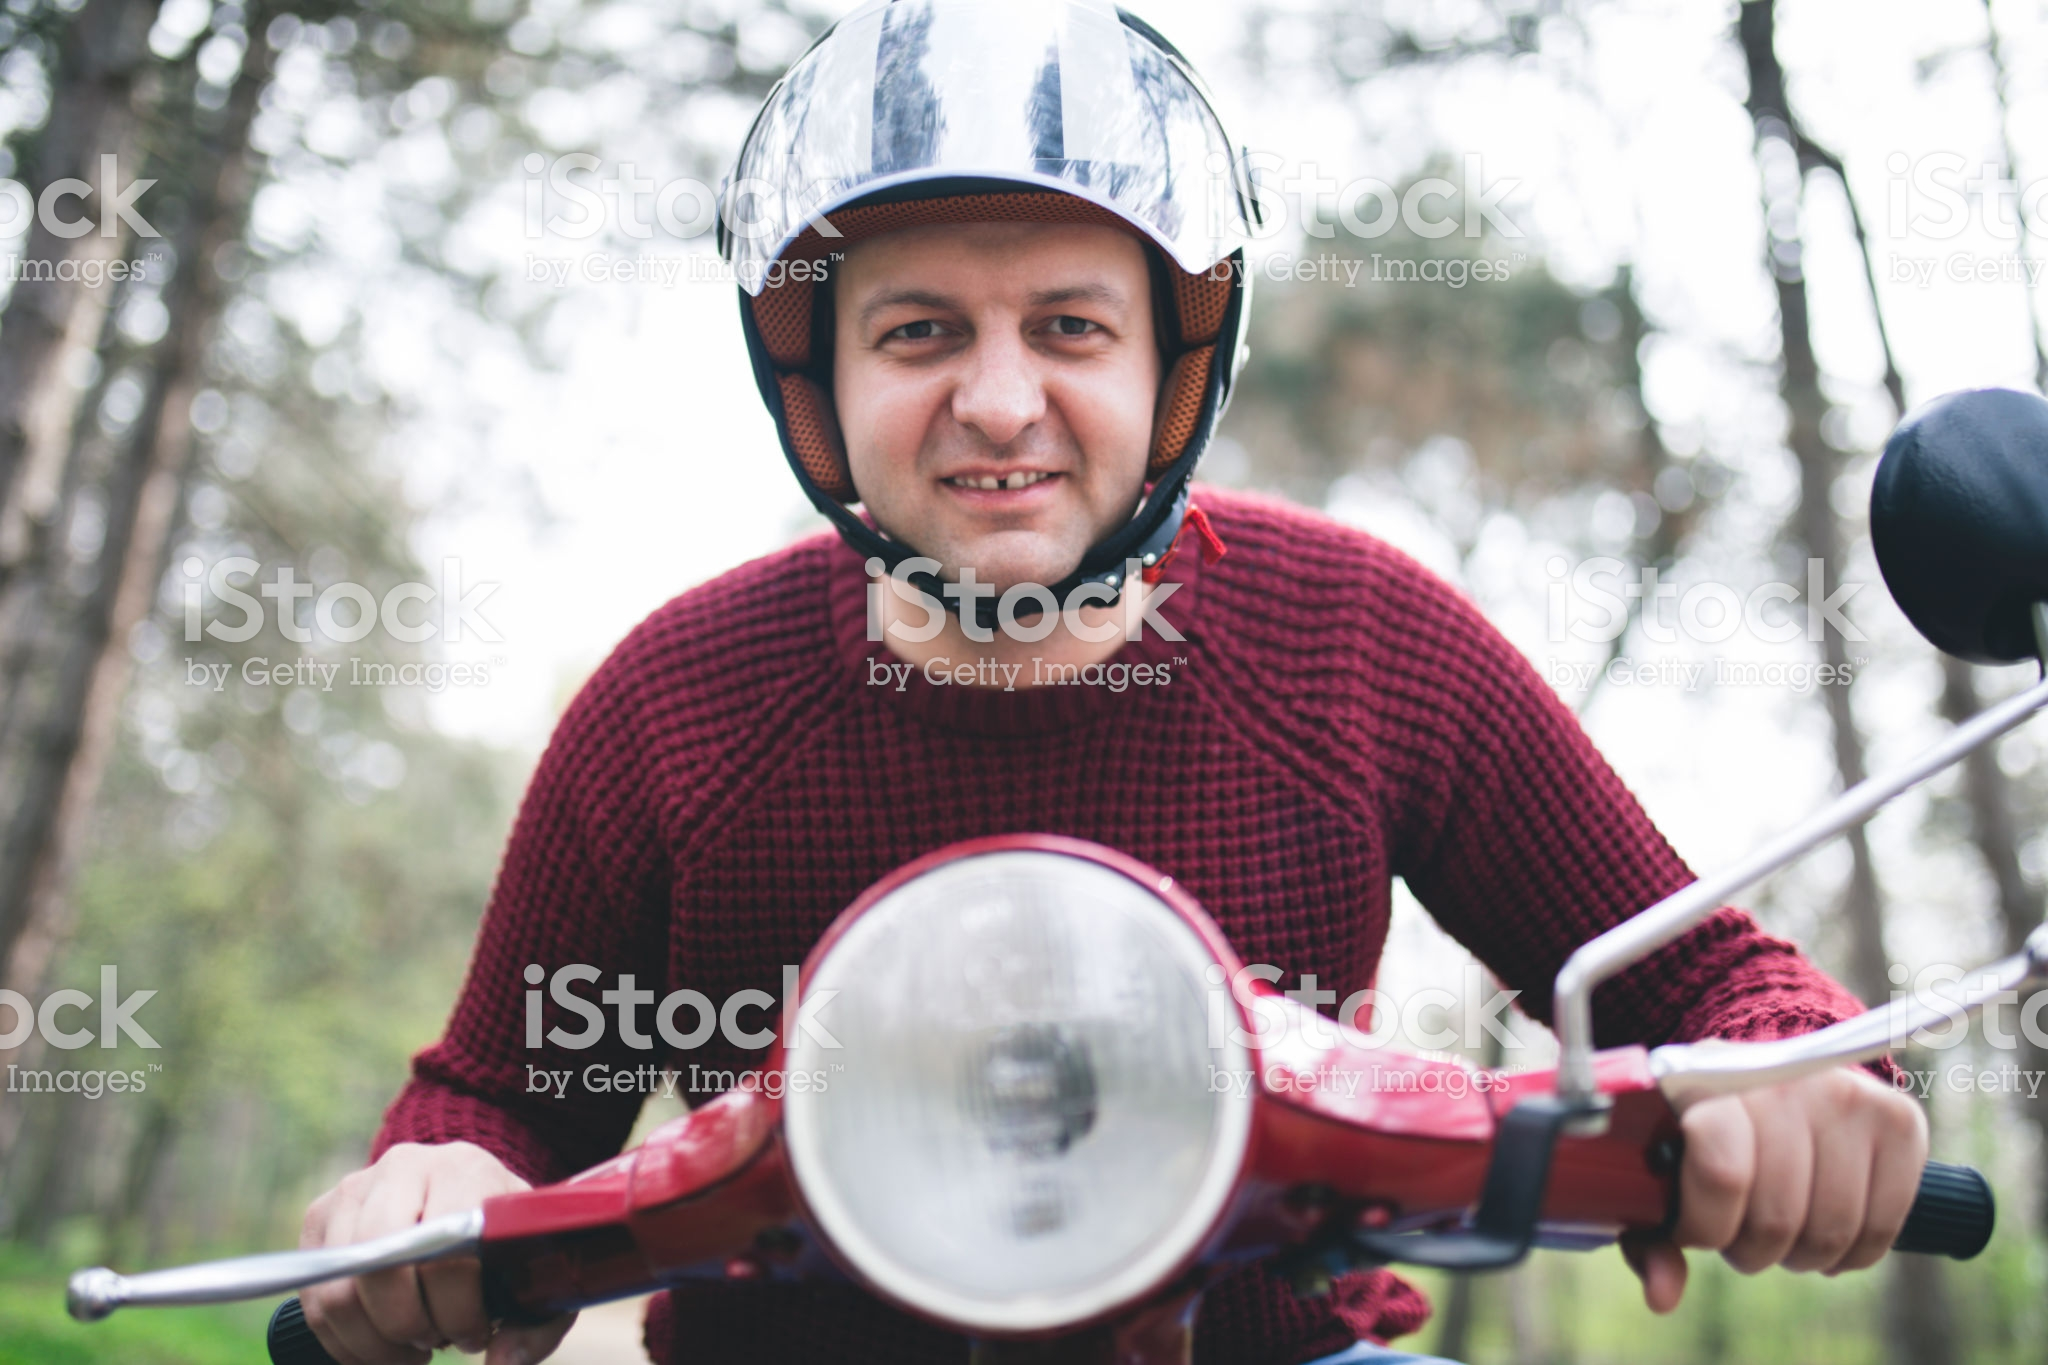helmet: (684, 37, 1325, 556)
